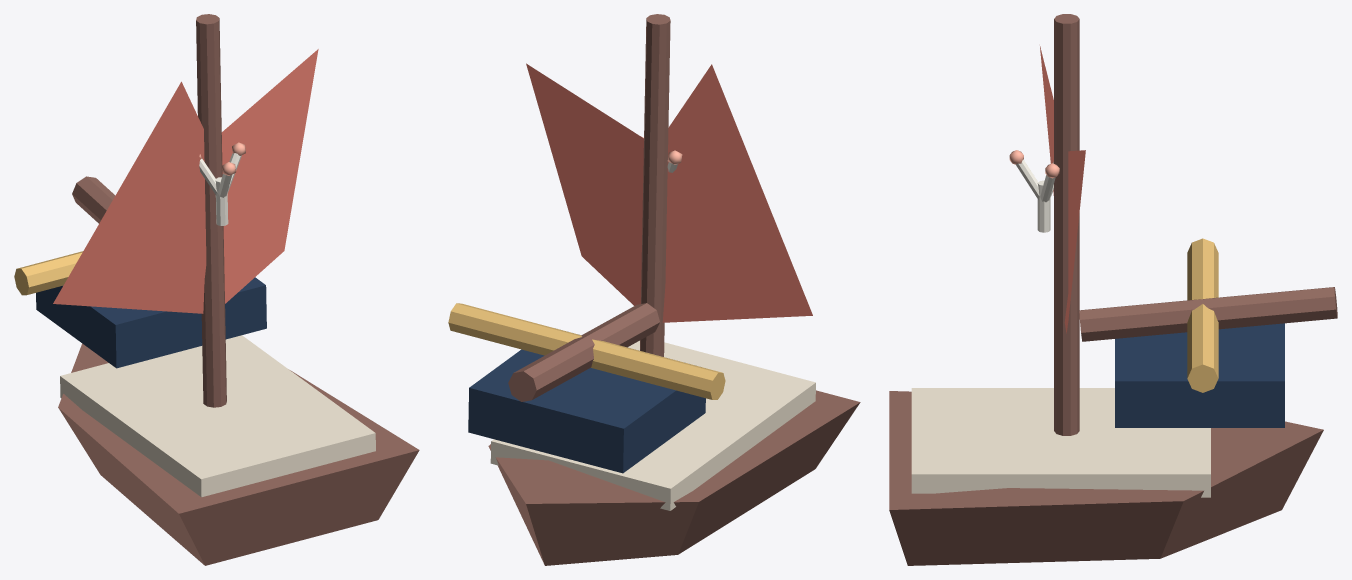
The model's file is bomber-coral.glb.
3 views of the same model, side by side, from view 1: azimuth 30°, elevation 25°; view 2: azimuth 150°, elevation 25°; view 3: azimuth 270°, elevation 25° (orthographic). The views are drawn at different scales.
Visible parts, largest first — view 1: Distinctive sail, Pearl deck, Carved hull, Ballista platform, Mast, Ballista arm, Ballista rail; view 2: Distinctive sail, Carved hull, Ballista platform, Pearl deck, Mast, Ballista arm, Ballista rail; view 3: Carved hull, Pearl deck, Ballista platform, Mast, Ballista rail, Ballista arm, Distinctive sail.
Boxes of the visible parts, bbox=[...] form: Distinctive sail: bbox=[53, 49, 318, 313]; Pearl deck: bbox=[60, 335, 375, 497]; Carved hull: bbox=[58, 343, 419, 565]; Ballista platform: bbox=[36, 277, 266, 368]; Mast: bbox=[196, 14, 226, 407]; Ballista arm: bbox=[14, 251, 83, 295]; Ballista rail: bbox=[72, 176, 115, 223]; Distinctive sail: bbox=[526, 63, 812, 322]; Carved hull: bbox=[488, 390, 860, 565]; Ballista platform: bbox=[468, 349, 705, 473]; Pearl deck: bbox=[490, 340, 815, 510]; Mast: bbox=[640, 14, 670, 356]; Ballista arm: bbox=[448, 303, 725, 399]; Ballista rail: bbox=[508, 303, 659, 401]; Carved hull: bbox=[889, 391, 1323, 565]; Pearl deck: bbox=[911, 388, 1210, 497]; Ballista platform: bbox=[1115, 323, 1284, 427]; Mast: bbox=[1054, 14, 1079, 435]; Ballista rail: bbox=[1079, 287, 1337, 341]; Ballista arm: bbox=[1187, 238, 1218, 392]; Distinctive sail: bbox=[1040, 46, 1085, 333].
Size of the model in its own units: 1.23 by 1.95 by 1.58.
